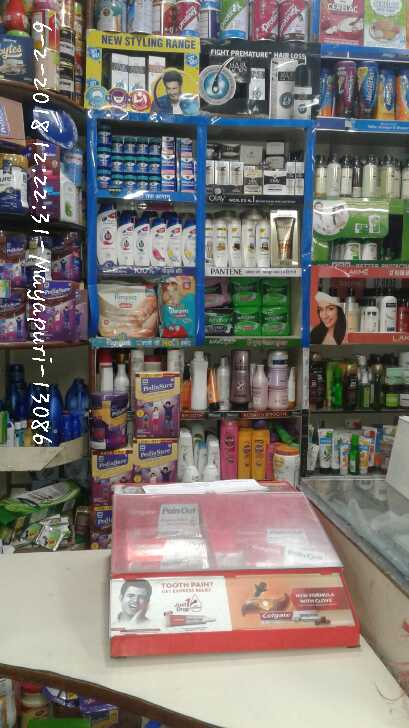vicks: (93, 121, 197, 191)
